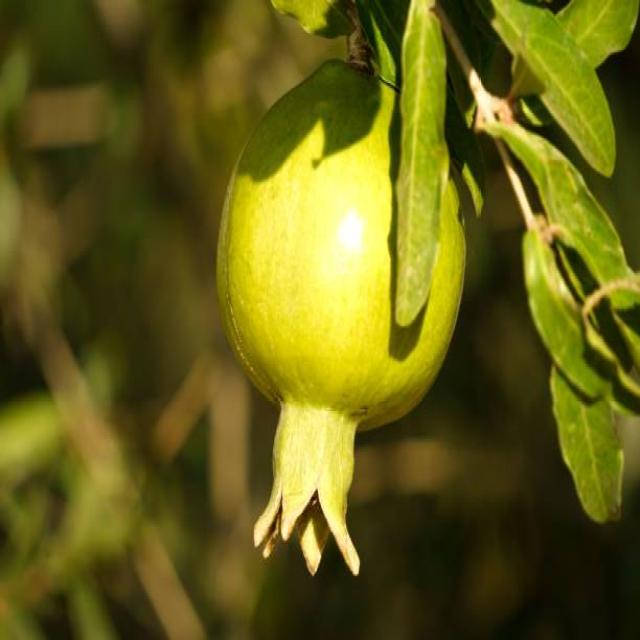Unripe: (215, 59, 468, 579)
